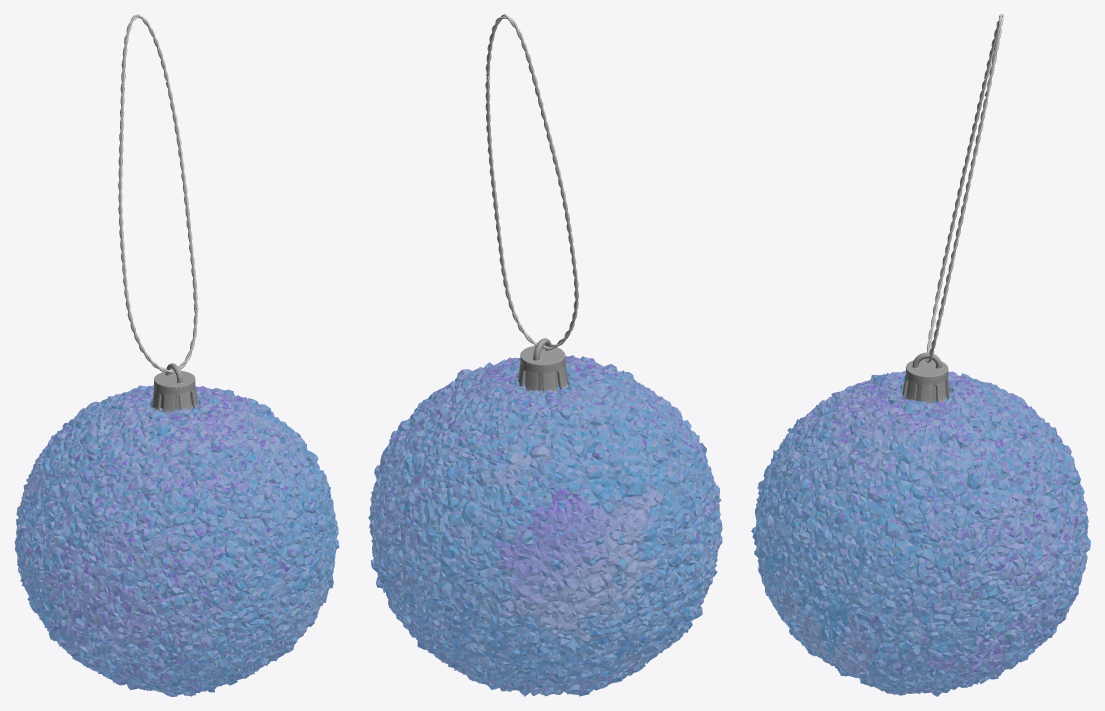
File: blue_glitter.glb
The picture shows the model from 3 angles, left to right: view 1: azimuth 30°, elevation 25°; view 2: azimuth 150°, elevation 25°; view 3: azimuth 270°, elevation 25°; orthographic projection. The views are drawn at different scales.
Visible parts, largest first — view 1: Mesh_0_1, GN Instance, Mesh_0001_2; view 2: Mesh_0_1, GN Instance, Mesh_0001_2; view 3: Mesh_0_1, GN Instance, Mesh_0001_2.
Boxes of the visible parts, x1,y1,x2,y2 form: Mesh_0_1: (14,385,339,696); GN Instance: (118,14,198,373); Mesh_0001_2: (150,363,198,412); Mesh_0_1: (368,355,722,696); GN Instance: (485,14,578,349); Mesh_0001_2: (518,338,569,393); Mesh_0_1: (751,370,1090,696); GN Instance: (926,14,1003,363); Mesh_0001_2: (902,352,950,403).
Size of the model in its own units: 0.0843 by 0.1812 by 0.0839.
3 materials, 1 textured.
